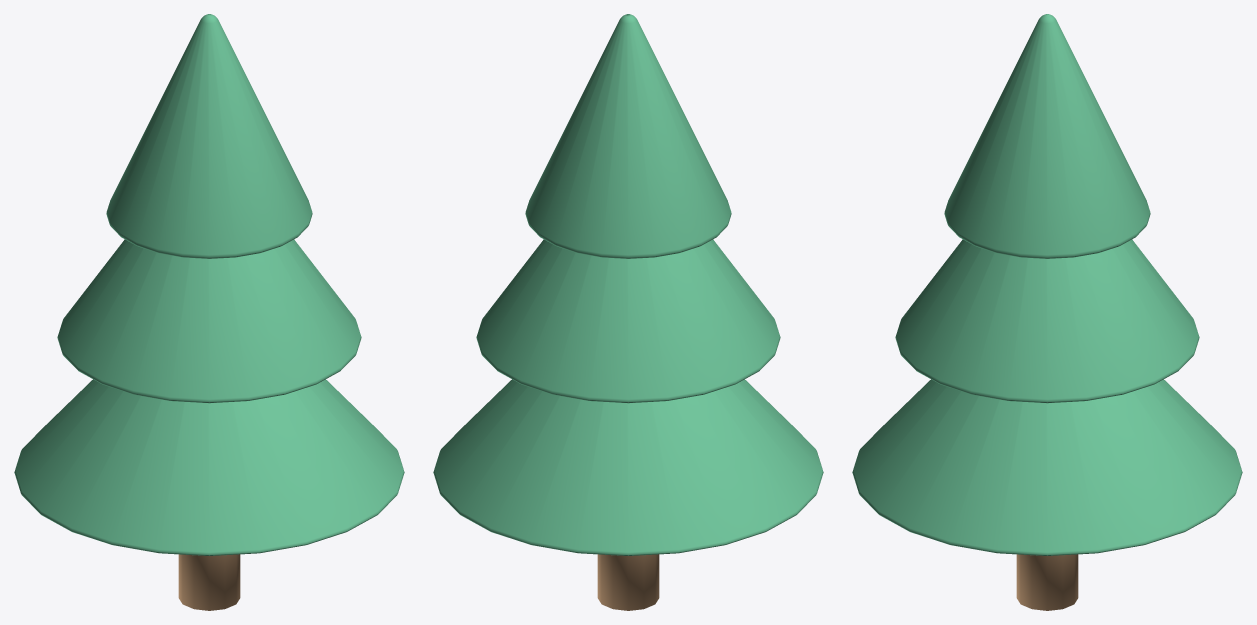
File: pine.glb
3 renders of one model, left to right at view 1: azimuth 30°, elevation 25°; view 2: azimuth 150°, elevation 25°; view 3: azimuth 270°, elevation 25°, orthographic.
Parts seen in each view (by area): view 1: Pine; view 2: Pine; view 3: Pine.
Boxes of the visible parts, box(x1,y1,x2,y2) form: Pine: box(14, 14, 404, 610); Pine: box(433, 14, 823, 610); Pine: box(852, 14, 1242, 610).
Size of the model in its own units: 3.15 by 5.2 by 3.15.
